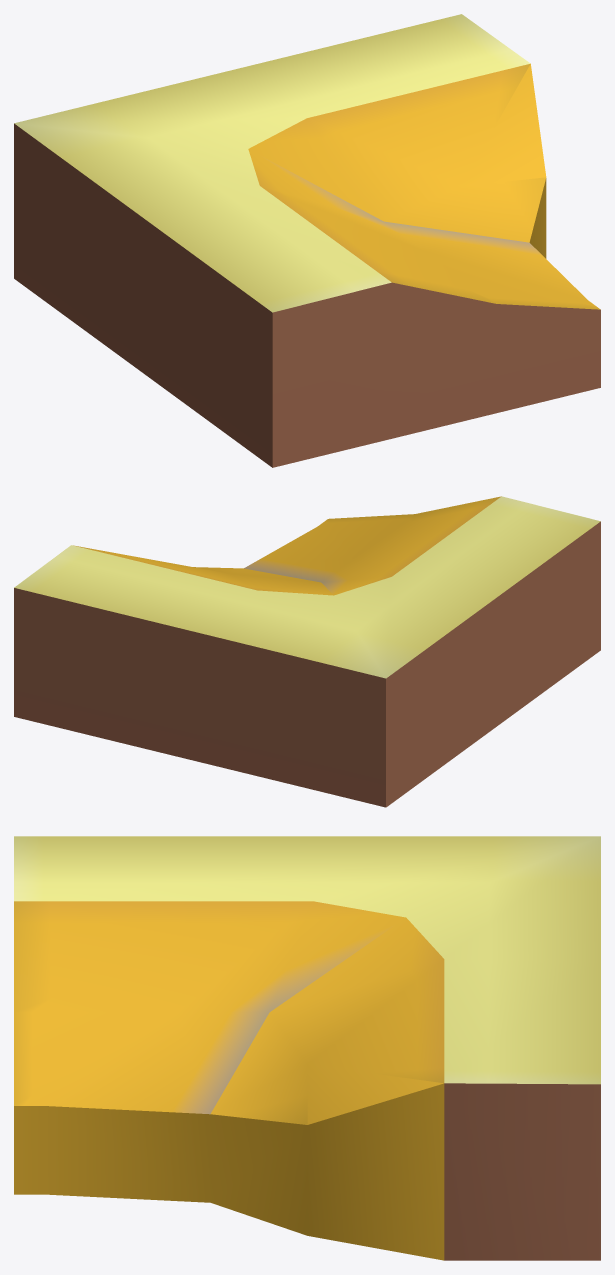
The model's file is Shore.SliceConcave.B.Vert.Desert.glb.
3 renders of one model, top to bottom at view 1: azimuth 30°, elevation 25°; view 2: azimuth 150°, elevation 25°; view 3: azimuth 270°, elevation 25°, orthographic. The views are drawn at different scales.
Parts seen in each view (by area): view 1: Shore.SliceConcave.B.Vert.Desert; view 2: Shore.SliceConcave.B.Vert.Desert; view 3: Shore.SliceConcave.B.Vert.Desert.
Boxes of the visible parts, x1,y1,x2,y2 form: Shore.SliceConcave.B.Vert.Desert: (14,14,600,467); Shore.SliceConcave.B.Vert.Desert: (14,496,600,807); Shore.SliceConcave.B.Vert.Desert: (14,836,600,1260).
Bounding box in the file's own units: 3 × 1 × 3.
1 material, 1 textured.
